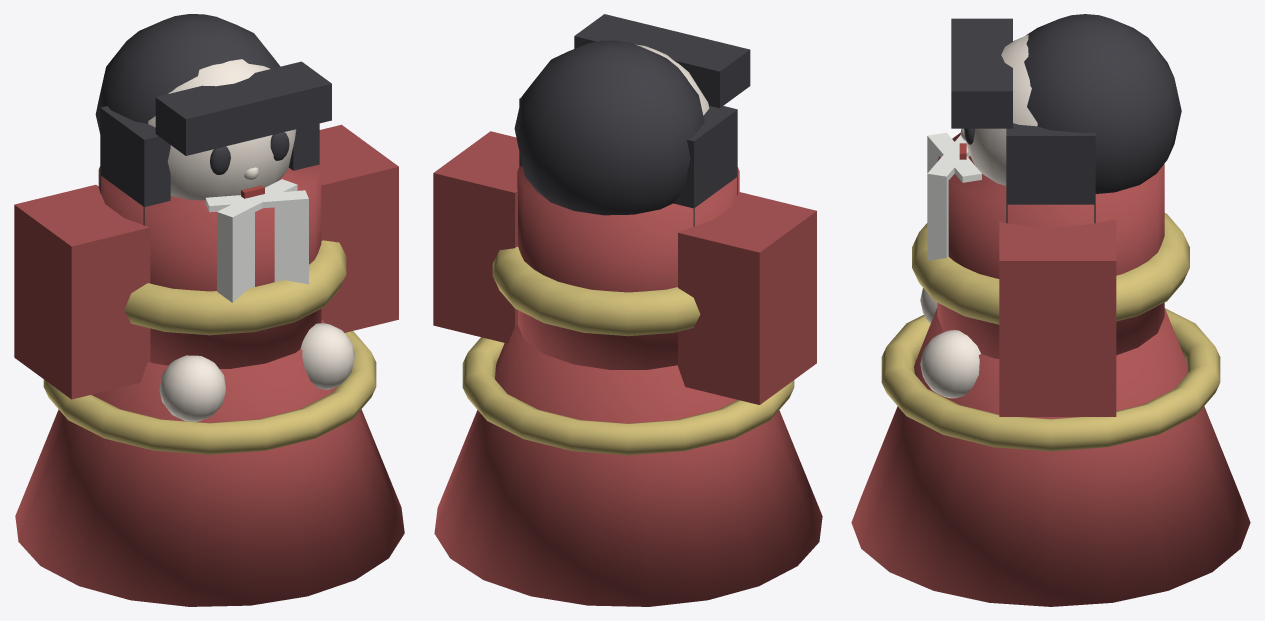
File: prop_ichimatsu.glb
3 renders of one model, left to right at view 1: azimuth 30°, elevation 25°; view 2: azimuth 150°, elevation 25°; view 3: azimuth 270°, elevation 25°, orthographic. The views are drawn at different scales.
Parts seen in each view (by area): view 1: ichimatsu; view 2: ichimatsu; view 3: ichimatsu.
Boxes of the visible parts, x1,y1,x2,y2 form: ichimatsu: (14, 14, 404, 606); ichimatsu: (433, 14, 822, 606); ichimatsu: (851, 14, 1250, 606).
Bounding box in the file's own units: 1.16 × 1.6 × 1.16.
